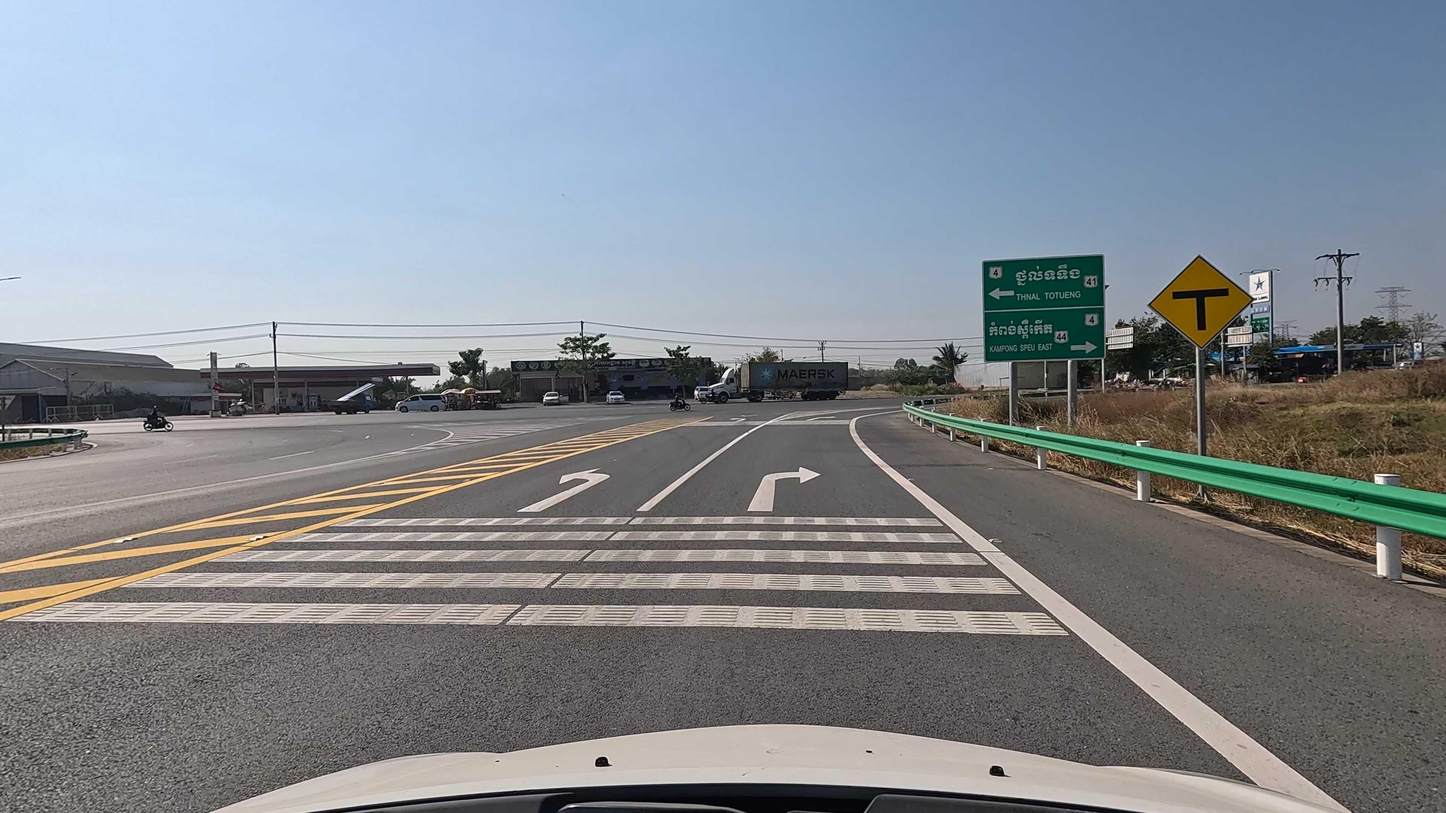t_junction_ahead: (1140, 254, 1258, 351)
